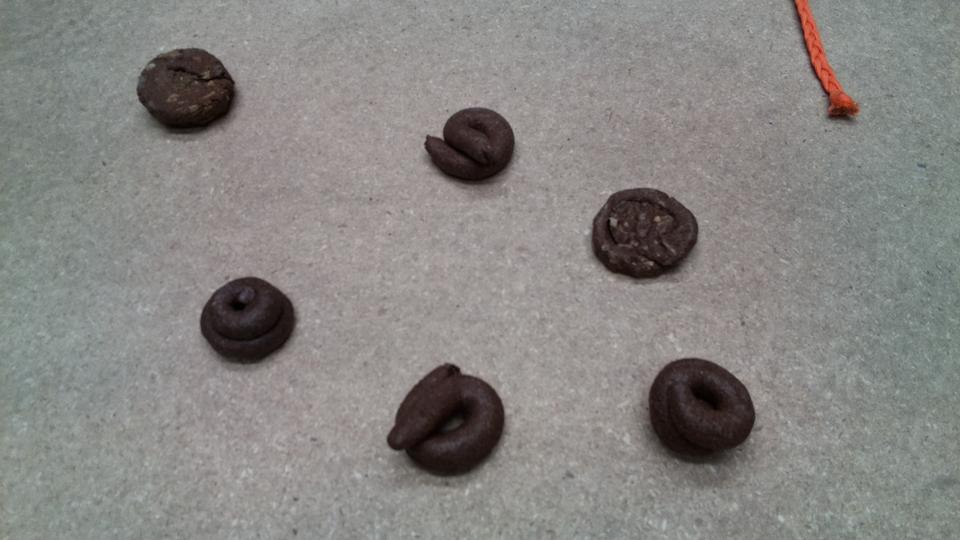poop: (382, 359, 509, 482), (645, 354, 758, 464), (587, 184, 701, 283), (198, 274, 301, 368), (134, 45, 238, 135), (419, 104, 518, 187)
rope: (787, 1, 862, 122)
